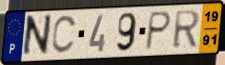4: (88, 14, 107, 54)
9: (115, 11, 138, 54)
C: (50, 14, 79, 56)
N: (20, 13, 53, 60)
P: (144, 10, 174, 52)
R: (172, 9, 202, 50)
